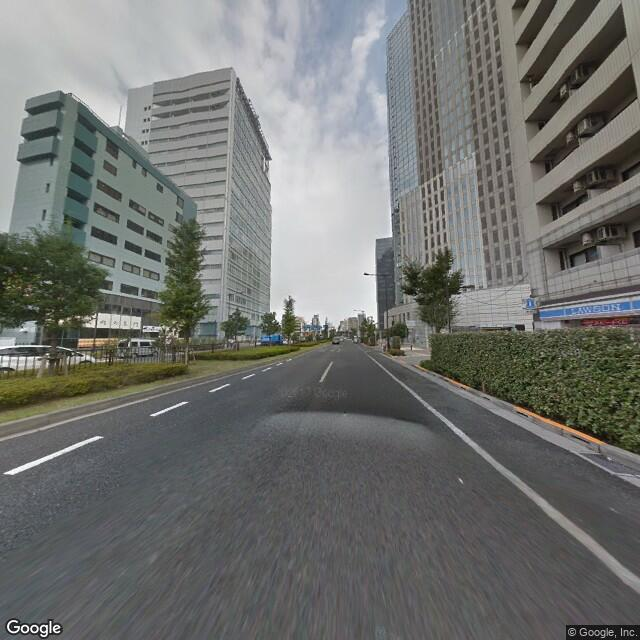lawson: (536, 295, 640, 324), (523, 297, 537, 315)
